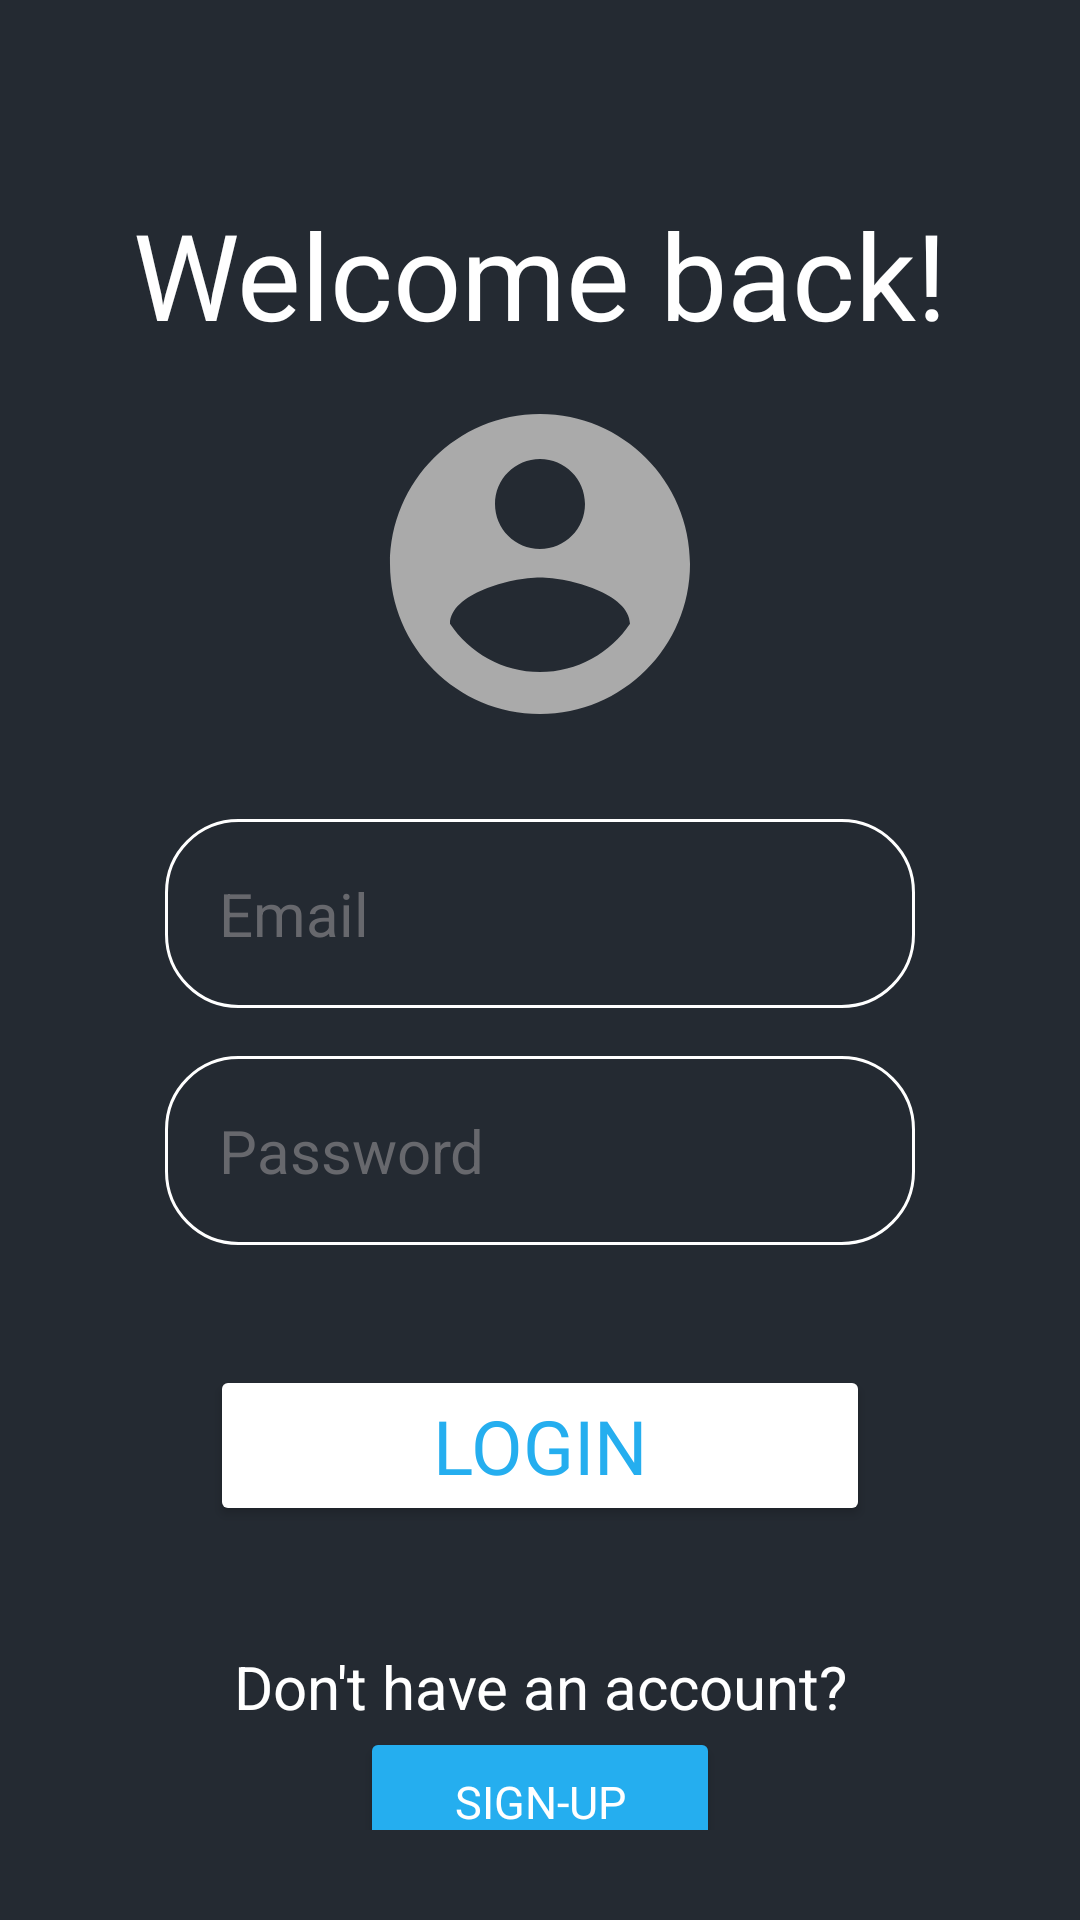

Icon bounding boxes for this 1080x1920 phone screenshot, format (x1=x1, y1=y1, x2=x2, y2=y2):
acccount circle: (x1=390, y1=414, x2=690, y2=714)
